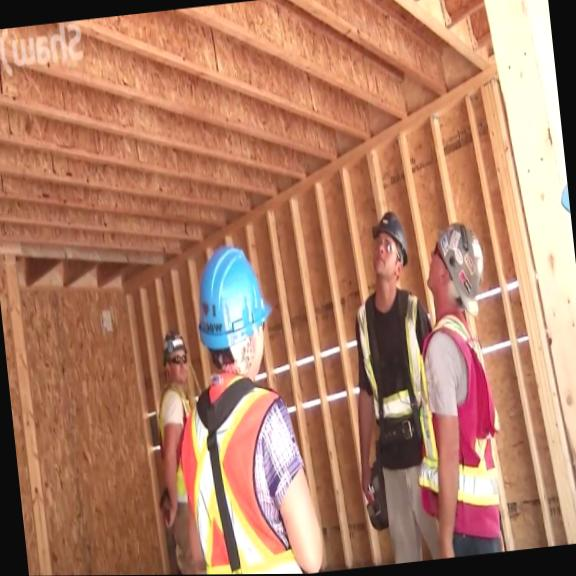safety_vest: (172, 373, 309, 575), (402, 310, 515, 551), (353, 285, 433, 426), (154, 378, 200, 508)
